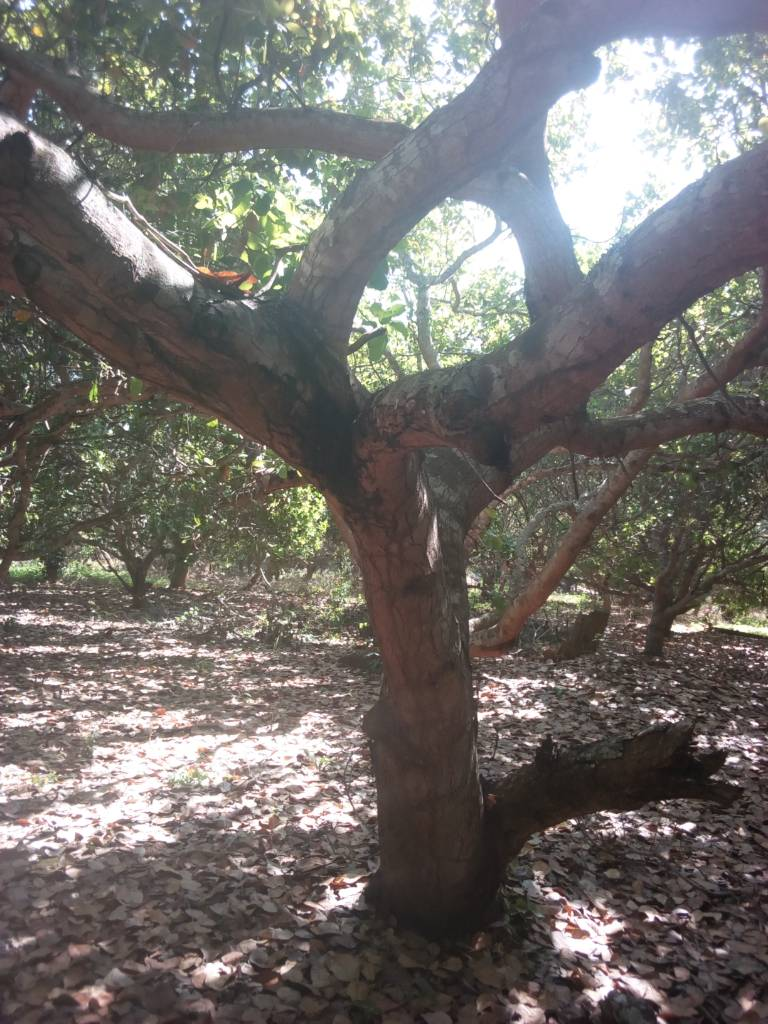Termites: (375, 464, 483, 899), (243, 341, 361, 474)
